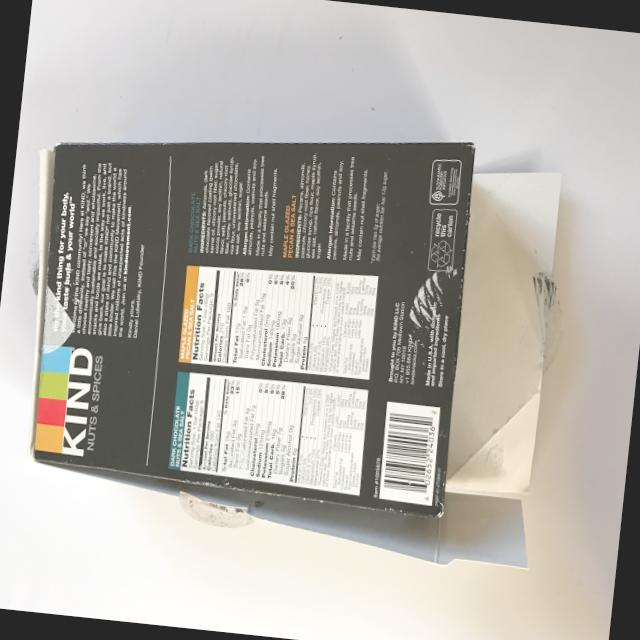Paper: (7, 64, 573, 558)
